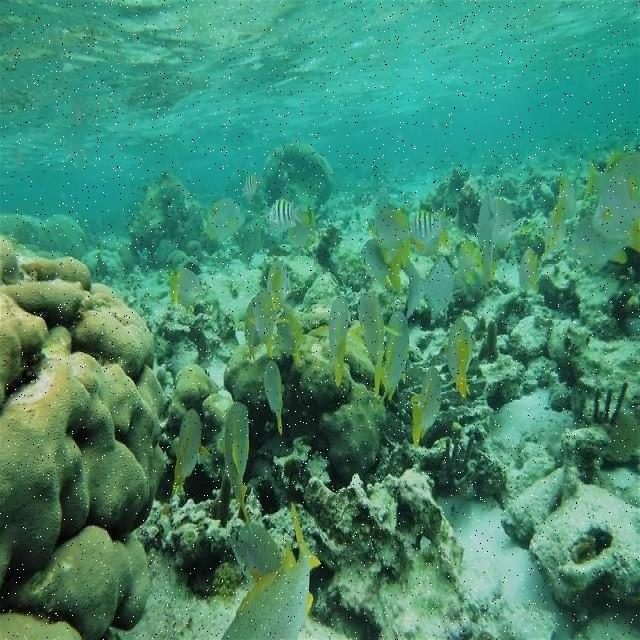fish: (223, 502, 322, 639), (229, 522, 286, 587), (222, 401, 250, 531), (404, 258, 456, 318), (169, 410, 203, 495), (358, 295, 383, 401), (411, 368, 442, 449), (595, 178, 639, 235), (445, 321, 475, 400), (361, 237, 401, 292), (198, 196, 246, 240), (475, 195, 503, 270), (327, 297, 349, 386), (251, 290, 277, 362), (408, 208, 445, 254), (263, 362, 285, 435), (546, 190, 570, 250), (263, 198, 304, 232), (170, 267, 202, 308), (516, 251, 540, 294)
reefs: (0, 235, 166, 639)
